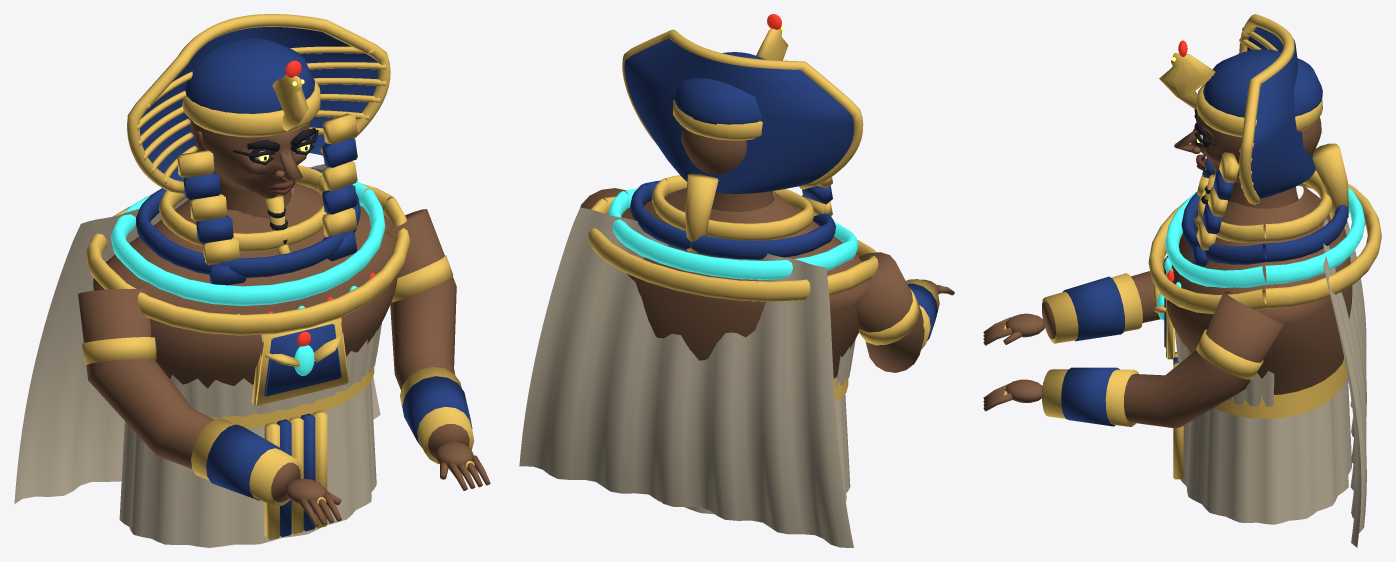
The model's file is opp_antika.glb.
3 renders of one model, left to right at view 1: azimuth 30°, elevation 25°; view 2: azimuth 150°, elevation 25°; view 3: azimuth 270°, elevation 25°, orthographic. The views are drawn at different scales.
Parts seen in each view (by area): view 1: EgyptLinenMantle, EgyptMuscularTorso, LinenPleatedWaist, BronzeArm_L, UsekhCollarTier_3, BronzeArm_R, UsekhCollarTier_2, NemesHeaddressHoodFront, NemesCrownCap, NemesOuterGoldBorder, UsekhCollarTier_1, LinenPleatedPectoral (+32 smaller); view 2: EgyptLinenMantle, NemesHeaddressHoodBack, EgyptMuscularTorso, UsekhCollarTier_3, UsekhCollarTier_2, BronzeArm_L, UsekhCollarTier_1, UsekhCollarTier_0, NemesOuterGoldBorder, NemesCrownCap, SculptedHead, NemesBackQueue (+6 smaller); view 3: LinenPleatedWaist, EgyptMuscularTorso, BronzeArm_R, UsekhCollarTier_3, NemesHeaddressHoodBack, EgyptLinenMantle, UsekhCollarTier_2, NemesCrownCap, UsekhCollarTier_1, NemesOuterGoldBorder, BracerLapisInlay_L, UsekhCollarTier_0 (+17 smaller).
Boxes of the visible parts, x1=… form: EgyptLinenMantle: x1=14, y1=164, x2=380, y2=503; EgyptMuscularTorso: x1=93, y1=183, x2=398, y2=388; LinenPleatedWaist: x1=119, y1=382, x2=376, y2=547; BronzeArm_L: x1=78, y1=288, x2=300, y2=502; UsekhCollarTier_3: x1=86, y1=183, x2=410, y2=335; BronzeArm_R: x1=385, y1=209, x2=469, y2=458; UsekhCollarTier_2: x1=111, y1=181, x2=385, y2=305; NemesHeaddressHoodFront: x1=140, y1=27, x2=378, y2=181; NemesCrownCap: x1=184, y1=38, x2=314, y2=113; NemesOuterGoldBorder: x1=127, y1=14, x2=390, y2=194; UsekhCollarTier_1: x1=136, y1=167, x2=360, y2=277; LinenPleatedPectoral: x1=170, y1=323, x2=381, y2=418; EgyptLinenMantle: x1=519, y1=207, x2=853, y2=547; NemesHeaddressHoodBack: x1=624, y1=38, x2=854, y2=193; EgyptMuscularTorso: x1=621, y1=187, x2=868, y2=378; UsekhCollarTier_3: x1=588, y1=196, x2=878, y2=301; UsekhCollarTier_2: x1=608, y1=188, x2=858, y2=279; BronzeArm_L: x1=854, y1=252, x2=924, y2=372; UsekhCollarTier_1: x1=630, y1=180, x2=835, y2=259; UsekhCollarTier_0: x1=652, y1=175, x2=814, y2=240; NemesOuterGoldBorder: x1=622, y1=29, x2=863, y2=189; NemesCrownCap: x1=674, y1=52, x2=765, y2=124; SculptedHead: x1=681, y1=127, x2=746, y2=174; NemesBackQueue: x1=685, y1=173, x2=718, y2=252; LinenPleatedWaist: x1=1180, y1=357, x2=1351, y2=524; EgyptMuscularTorso: x1=1166, y1=184, x2=1352, y2=394; BronzeArm_R: x1=1042, y1=291, x2=1284, y2=428; UsekhCollarTier_3: x1=1148, y1=183, x2=1381, y2=314; NemesHeaddressHoodBack: x1=1251, y1=39, x2=1315, y2=198; EgyptLinenMantle: x1=1323, y1=214, x2=1366, y2=547; UsekhCollarTier_2: x1=1165, y1=183, x2=1364, y2=287; NemesCrownCap: x1=1203, y1=49, x2=1322, y2=117; UsekhCollarTier_1: x1=1181, y1=169, x2=1348, y2=264; NemesOuterGoldBorder: x1=1239, y1=14, x2=1294, y2=204; BracerLapisInlay_L: x1=1062, y1=276, x2=1124, y2=341; UsekhCollarTier_0: x1=1197, y1=170, x2=1332, y2=242.
Size of the model in its own units: 0.68 by 0.842 by 0.7053.
